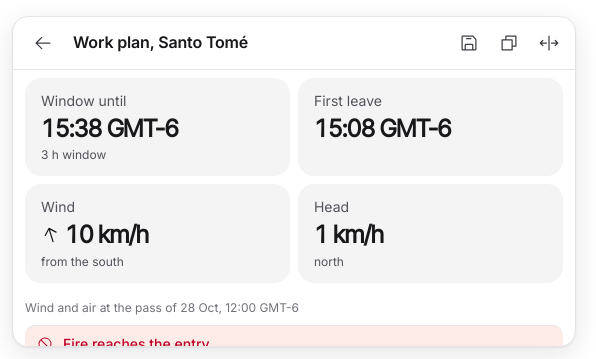
Test case: the plan window › keeps the plan on the server once, and goes back to the chat
Later steps or results of the test are not shown.
Click the button named "Save the plan": (469, 43) [451,25,487,61]
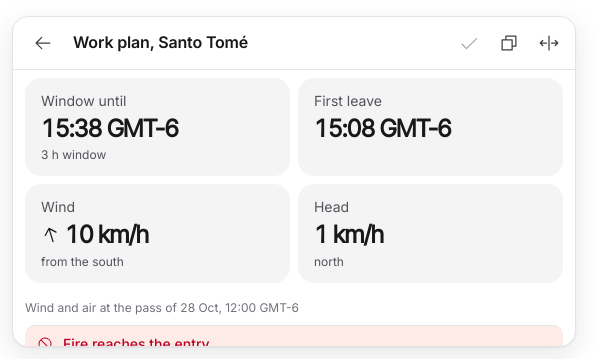
Result: the button named "Plan saved" is disabled at [451,25,487,61]
